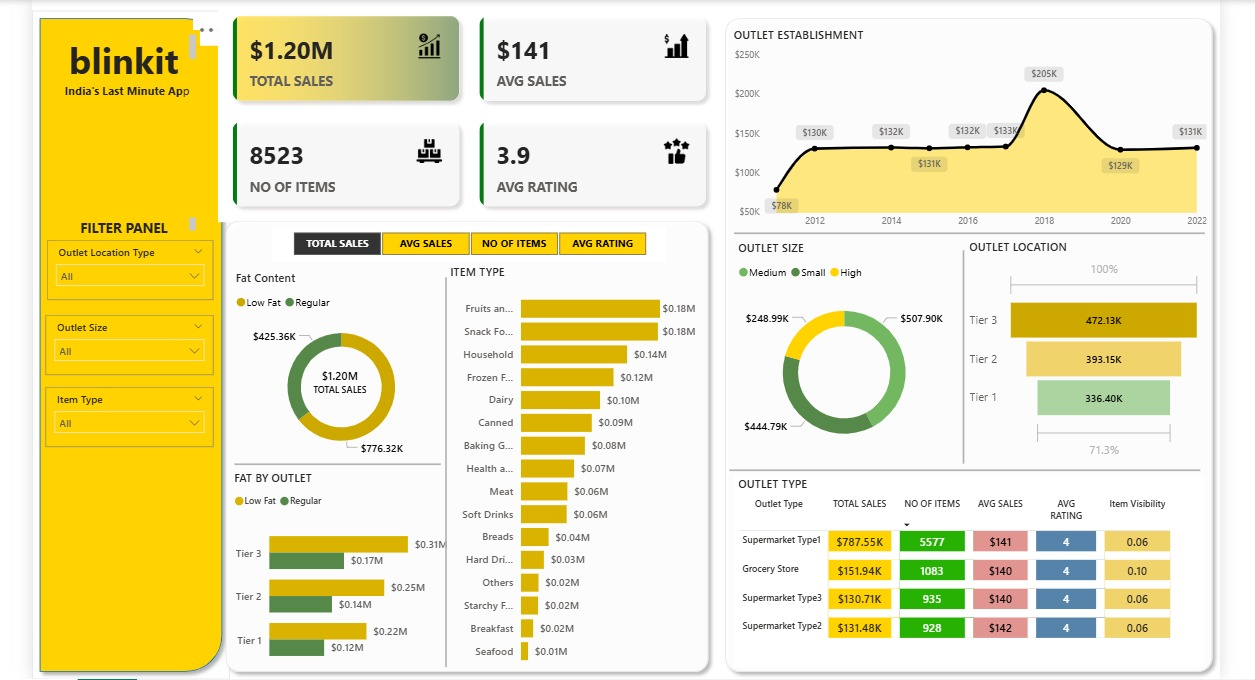

What the dashboard file says about the page in this screenshot:
{"tool":"powerbi","page":{"name":"Page 1","canvas":[1400,800],"ordinal":0},"visuals":[{"type":"shape","box":[0,12.4,233.3,788.2],"z":0},{"type":"textbox","box":[263.3,77.8,120.2,671.6],"z":1000},{"type":"textbox","box":[26.5,35.3,171.4,56.6],"z":2000},{"type":"textbox","box":[26.5,91.9,171.4,40.6],"z":3000},{"type":"cardVisual","fields":{"Data":["BlinkIT Grocery Data.TOTAL SALES","BlinkIT Grocery Data.AVG SALES","BlinkIT Grocery Data.NO OF ITEMS","BlinkIT Grocery Data.AVG RATING"]},"box":[219.2,1.8,592.1,259.8],"z":4000},{"type":"shape","box":[219.2,251,586.8,549.6],"z":5000},{"type":"donutChart","title":" Fat Content","fields":{"Y":["BlinkIT Grocery Data.TOTAL SALES"],"Category":["BlinkIT Grocery Data.Item Fat Content"]},"box":[235.1,318.1,258,229],"z":6000},{"type":"slicer","fields":{"Values":["Metrics.Metrics"]},"box":[282.8,266.9,464.8,40.6],"z":7000},{"type":"cardVisual","fields":{"Data":["BlinkIT Grocery Data.TOTAL SALES"]},"box":[263.3,372.9,199.7,153.8],"z":8000},{"type":"clusteredBarChart","title":"FAT BY OUTLET","fields":{"Y":["BlinkIT Grocery Data.TOTAL SALES"],"Category":["BlinkIT Grocery Data.Outlet Location Type"],"Series":["BlinkIT Grocery Data.Item Fat Content"]},"box":[233.3,553.2,261.6,247],"z":9000},{"type":"barChart","title":"ITEM TYPE","fields":{"Y":["BlinkIT Grocery Data.TOTAL SALES"],"Category":["BlinkIT Grocery Data.Item Type"]},"box":[487.8,311.1,298.7,482.5],"z":10000},{"type":"shape","box":[807.7,12.4,592.1,788.2],"z":11000},{"type":"lineChart","title":"OUTLET ESTABLISHMENT","fields":{"Category":["BlinkIT Grocery Data.Outlet Establishment Year"],"Y":["BlinkIT Grocery Data.TOTAL SALES"]},"box":[821.8,31.8,567.3,245.7],"z":12000},{"type":"donutChart","title":"OUTLET SIZE","fields":{"Y":["BlinkIT Grocery Data.TOTAL SALES"],"Category":["BlinkIT Grocery Data.Outlet Size"]},"box":[827.1,282.8,259,265.1],"z":13000},{"type":"funnel","title":"OUTLET LOCATION ","fields":{"Y":["Sum(BlinkIT Grocery Data.Sales)"],"Category":["BlinkIT Grocery Data.Outlet Location Type"]},"box":[1099.3,281,282.8,265.1],"z":14000},{"type":"pivotTable","title":"OUTLET TYPE","fields":{"Rows":["BlinkIT Grocery Data.Outlet Type"],"Values":["BlinkIT Grocery Data.TOTAL SALES","BlinkIT Grocery Data.NO OF ITEMS","BlinkIT Grocery Data.AVG SALES","BlinkIT Grocery Data.AVG RATING","Avg(BlinkIT Grocery Data.Item Visibility)"]},"box":[827.1,560.2,554.9,226.2],"z":15000},{"type":"slicer","fields":{"Values":["BlinkIT Grocery Data.Outlet Location Type"]},"box":[17.7,282.8,196.2,70.7],"z":16000},{"type":"slicer","fields":{"Values":["BlinkIT Grocery Data.Outlet Size"]},"box":[15.9,371.1,197.9,70.7],"z":17000},{"type":"slicer","fields":{"Values":["BlinkIT Grocery Data.Item Type"]},"box":[15.9,456,197.9,70.7],"z":18000},{"type":"textbox","box":[26.5,251,171.4,31.8],"z":19000},{"type":"shape","box":[827.1,251,554.9,47.7],"z":20000},{"type":"shape","box":[821.8,540.8,554.9,26.5],"z":21000},{"type":"shape","box":[1086.9,295.1,21.2,251],"z":22000},{"type":"shape","box":[238.6,526.7,243,40.6],"z":23000},{"type":"shape","box":[477.2,327,21.2,459],"z":24000}]}

Visuals, with their boxes on the page's 1400x800 design canvas (x1, y1, x2, y2). These are canvas units, not pixel positions in the 1255x680 screenshot, which may show the page scaled, cropped or inside an application window:
shape: detection(0, 12, 233, 801)
textbox: detection(263, 78, 384, 749)
textbox: detection(26, 35, 198, 92)
textbox: detection(26, 92, 198, 132)
cardVisual - BlinkIT Grocery Data.TOTAL SALES x BlinkIT Grocery Data.AVG SALES: detection(219, 2, 811, 262)
shape: detection(219, 251, 806, 801)
" Fat Content" donutChart: detection(235, 318, 493, 547)
slicer - Metrics.Metrics: detection(283, 267, 748, 308)
cardVisual - BlinkIT Grocery Data.TOTAL SALES: detection(263, 373, 463, 527)
"FAT BY OUTLET" clusteredBarChart: detection(233, 553, 495, 800)
"ITEM TYPE" barChart: detection(488, 311, 786, 794)
shape: detection(808, 12, 1400, 801)
"OUTLET ESTABLISHMENT" lineChart: detection(822, 32, 1389, 278)
"OUTLET SIZE" donutChart: detection(827, 283, 1086, 548)
"OUTLET LOCATION " funnel: detection(1099, 281, 1382, 546)
"OUTLET TYPE" pivotTable: detection(827, 560, 1382, 786)
slicer - BlinkIT Grocery Data.Outlet Location Type: detection(18, 283, 214, 354)
slicer - BlinkIT Grocery Data.Outlet Size: detection(16, 371, 214, 442)
slicer - BlinkIT Grocery Data.Item Type: detection(16, 456, 214, 527)
textbox: detection(26, 251, 198, 283)
shape: detection(827, 251, 1382, 299)
shape: detection(822, 541, 1377, 567)
shape: detection(1087, 295, 1108, 546)
shape: detection(239, 527, 482, 567)
shape: detection(477, 327, 498, 786)
